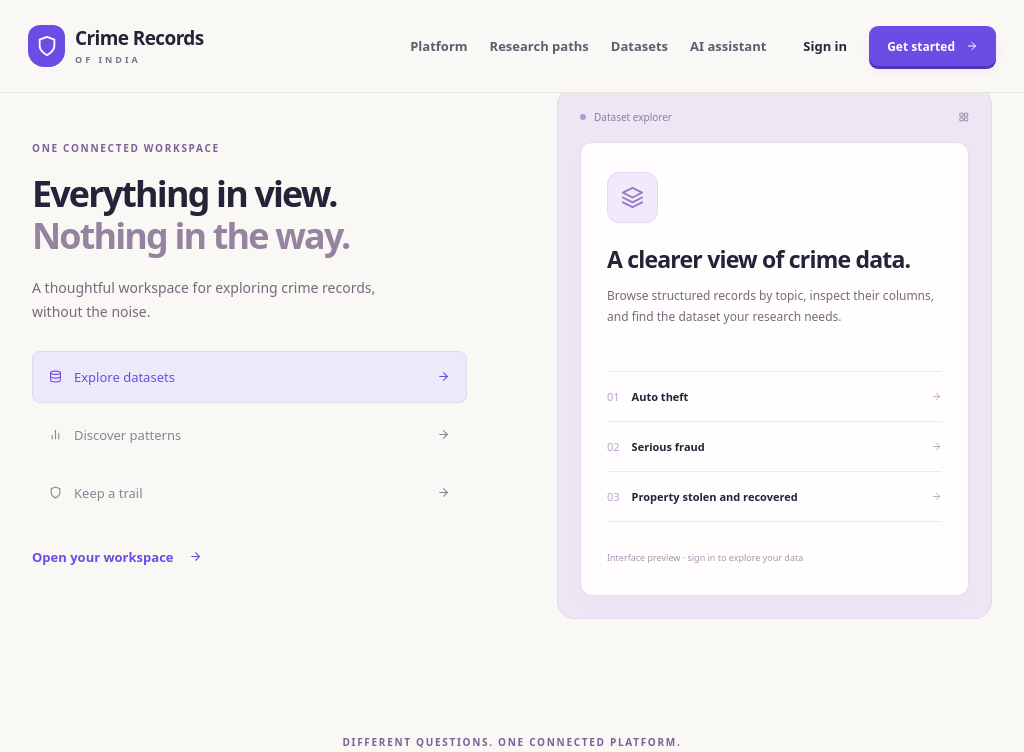
Test case: Modern crime records landing page › switches the workspace feature preview
(page scrolled)
Click the button "Discover patterns".
click(128, 435)  # box [32,409,467,461]
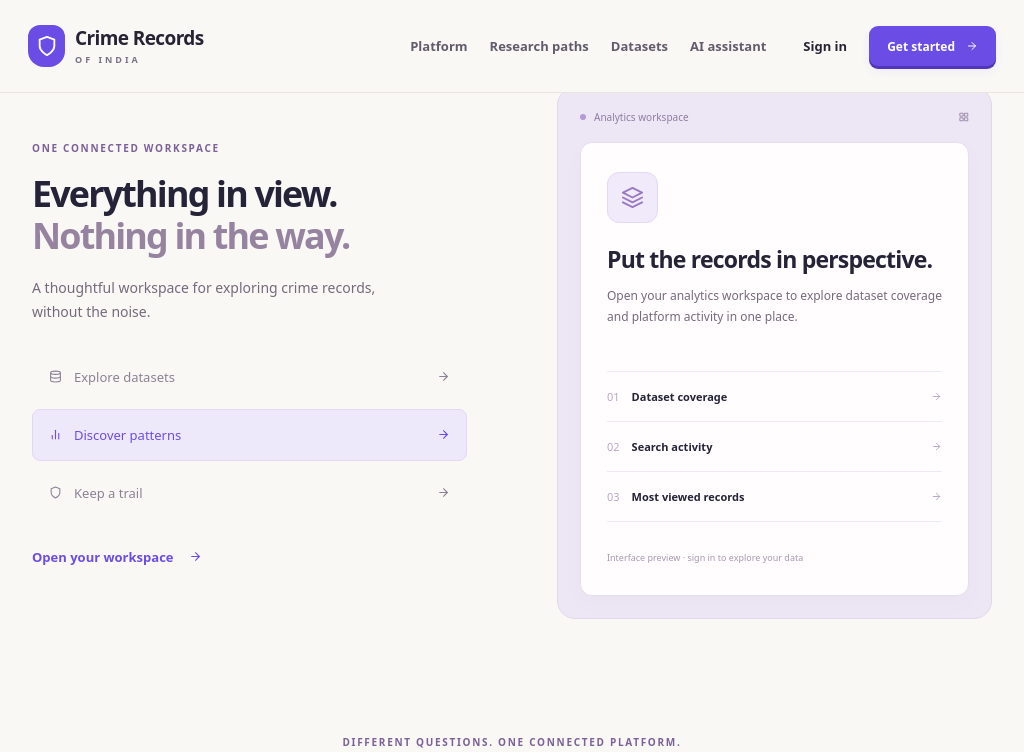
Expected: the heading "Put the records in perspective." is shown, [607,243,942,275]
Click the button "Keep a trail".
click(108, 493)  # box [32,467,467,519]
(page scrolled)
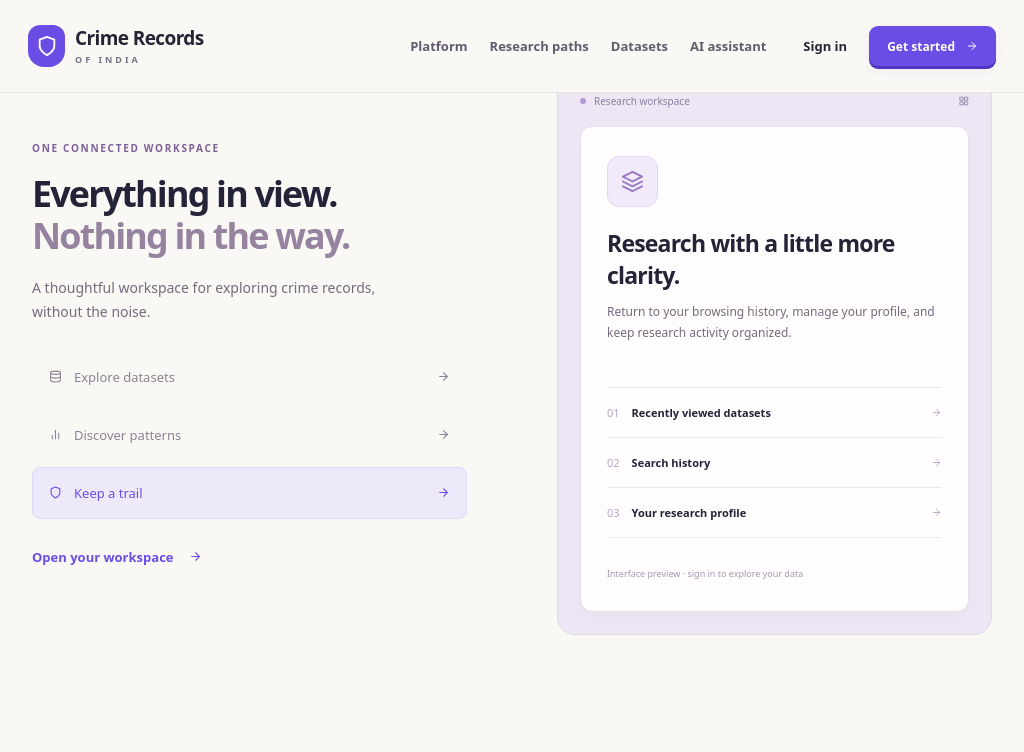
Expected: the heading "Research with a little more clarity." is shown, [607,227,942,291]
